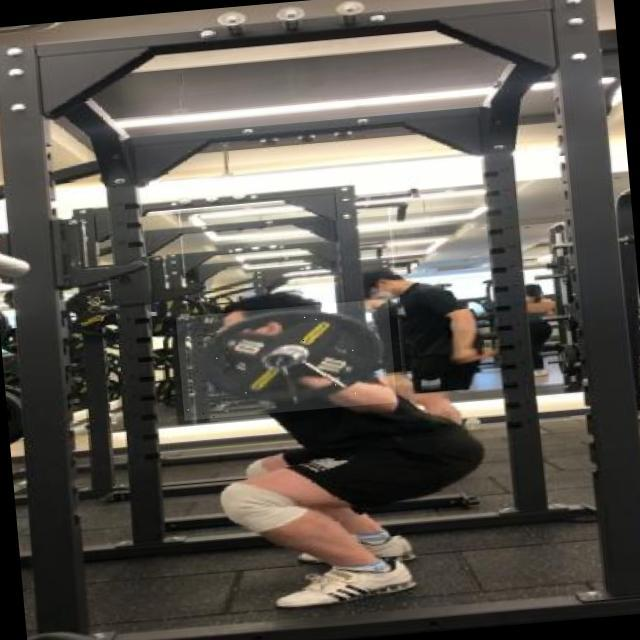barbell: (177, 299, 398, 421)
